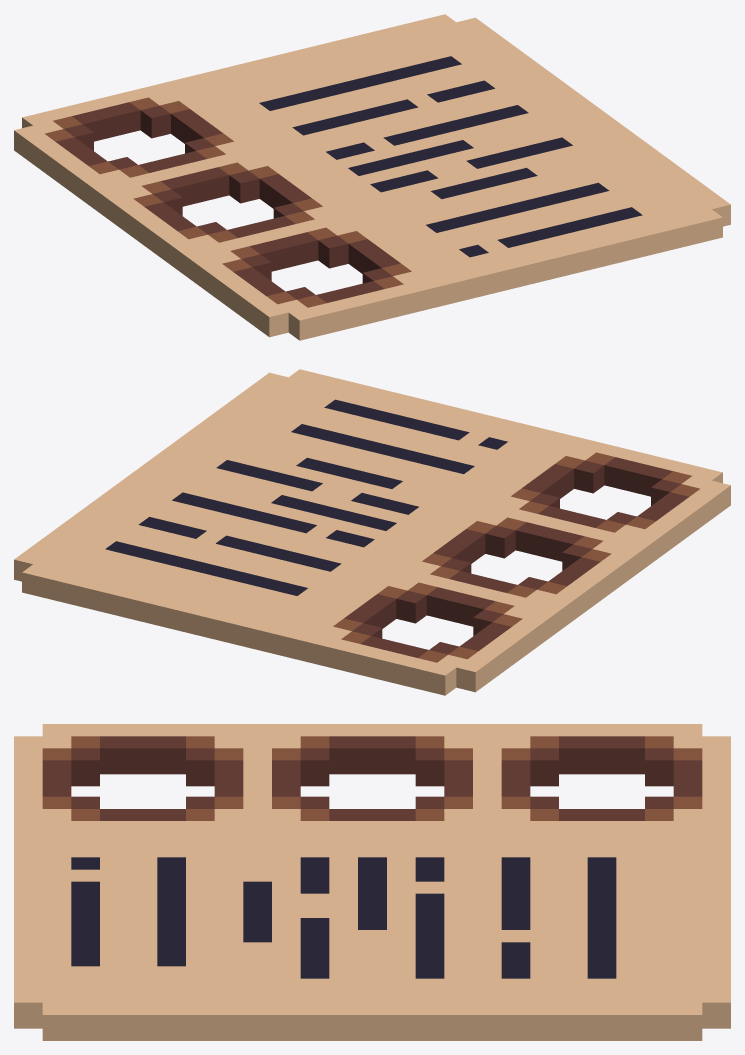
File: notebook.obj
3 views of the same model, one above another, from view 1: azimuth 30°, elevation 25°; view 2: azimuth 150°, elevation 25°; view 3: azimuth 270°, elevation 25° (orthographic). The views are drawn at different scales.
Bounding box in the file's own units: 24 × 1 × 25.
Materials: 1 (1 with a texture image).
